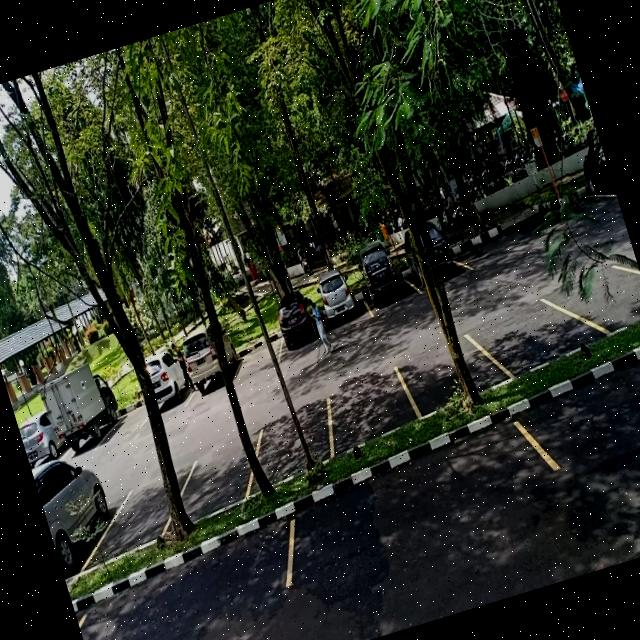empty: (279, 416, 554, 574), (69, 524, 316, 640), (481, 285, 598, 379), (242, 395, 345, 490), (398, 330, 503, 418), (320, 366, 421, 454), (170, 434, 262, 524), (92, 477, 178, 558), (232, 330, 290, 382)
occupied: (36, 468, 126, 581), (176, 327, 244, 400), (270, 296, 332, 362), (356, 251, 417, 316), (312, 276, 374, 338)
